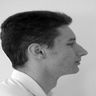ear: (24, 36, 52, 66)
